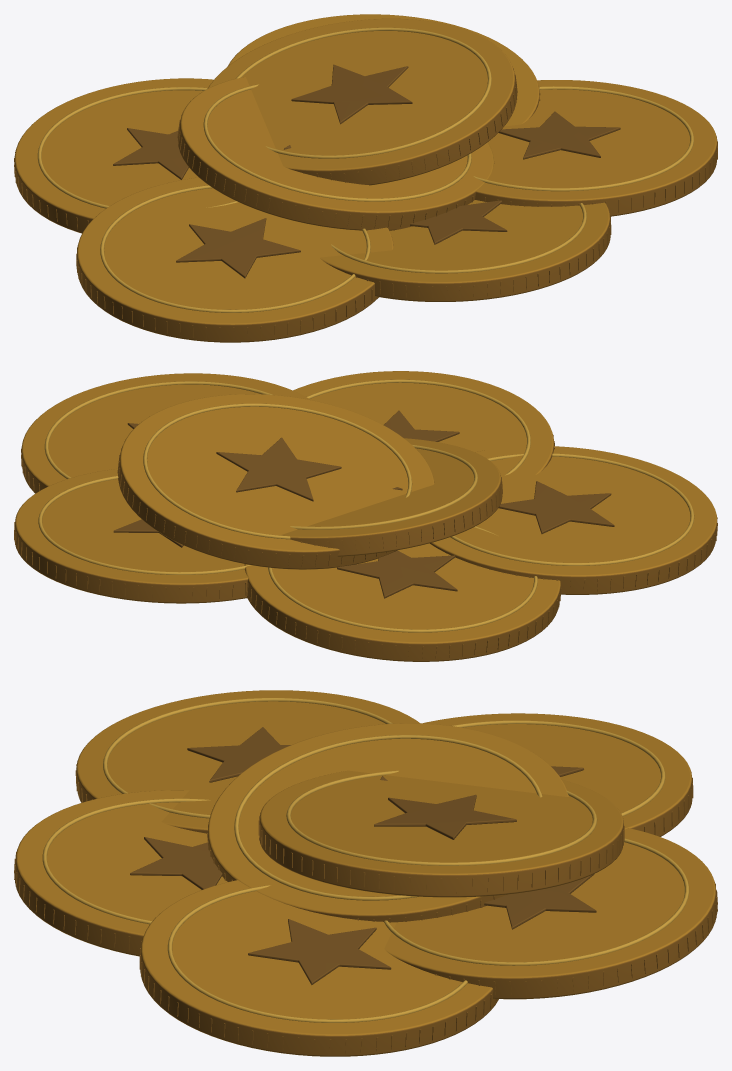
The model's file is coin_stack.glb.
3 views of the same model, one above another, from view 1: azimuth 30°, elevation 25°; view 2: azimuth 150°, elevation 25°; view 3: azimuth 270°, elevation 25° (orthographic). The views are drawn at different scales.
Visible parts, largest first — view 1: Coin body.006, Coin body, Coin body.002, Coin body.005, Coin body.001, Coin body.003, Recessed five point star, Coin body.004, Recessed five point star.006, Recessed five point star.002, Fine raised rim.006, Recessed five point star.001 (+9 smaller); view 2: Coin body.006, Coin body, Coin body.003, Coin body.004, Coin body.001, Coin body.002, Coin body.005, Recessed five point star.006, Recessed five point star.003, Recessed five point star, Fine raised rim.006, Fine raised rim (+10 smaller); view 3: Coin body.002, Coin body.006, Coin body.004, Coin body.005, Coin body.001, Coin body, Coin body.003, Recessed five point star.002, Recessed five point star.006, Fine raised rim.005, Recessed five point star.001, Recessed five point star.004 (+10 smaller).
Boxes of the visible parts, bbox=[...] form: Coin body.006: bbox=[207, 18, 517, 185]; Coin body: bbox=[77, 177, 393, 342]; Coin body.002: bbox=[475, 80, 717, 216]; Coin body.005: bbox=[178, 77, 494, 230]; Coin body.001: bbox=[320, 200, 610, 301]; Coin body.003: bbox=[14, 78, 213, 233]; Recessed five point star: bbox=[176, 218, 300, 278]; Coin body.004: bbox=[227, 14, 539, 126]; Recessed five point star.006: bbox=[291, 64, 412, 124]; Recessed five point star.002: bbox=[498, 111, 620, 159]; Fine raised rim.006: bbox=[236, 27, 491, 158]; Recessed five point star.001: bbox=[410, 200, 507, 244]; Coin body.006: bbox=[118, 394, 434, 569]; Coin body: bbox=[430, 446, 717, 594]; Coin body.003: bbox=[244, 543, 560, 661]; Coin body.004: bbox=[14, 468, 248, 603]; Coin body.001: bbox=[293, 371, 553, 475]; Coin body.002: bbox=[21, 373, 311, 493]; Coin body.005: bbox=[280, 438, 502, 556]; Recessed five point star.006: bbox=[216, 437, 341, 501]; Recessed five point star.003: bbox=[337, 550, 457, 598]; Recessed five point star: bbox=[498, 481, 614, 533]; Fine raised rim.006: bbox=[143, 403, 412, 539]; Fine raised rim: bbox=[450, 453, 694, 565]; Coin body.002: bbox=[140, 880, 498, 1056]; Coin body.006: bbox=[259, 770, 623, 897]; Coin body.004: bbox=[384, 828, 717, 999]; Coin body.005: bbox=[208, 723, 568, 922]; Coin body.001: bbox=[15, 790, 227, 956]; Coin body: bbox=[76, 690, 419, 833]; Coin body.003: bbox=[422, 713, 692, 836]; Recessed five point star.002: bbox=[248, 919, 391, 984]; Recessed five point star.006: bbox=[374, 794, 516, 839]; Fine raised rim.005: bbox=[234, 735, 542, 900]; Recessed five point star.001: bbox=[130, 837, 222, 889]; Recessed five point star.004: bbox=[484, 874, 596, 929].
Size of the model in its own units: 0.6622 by 0.0944 by 0.5604.
